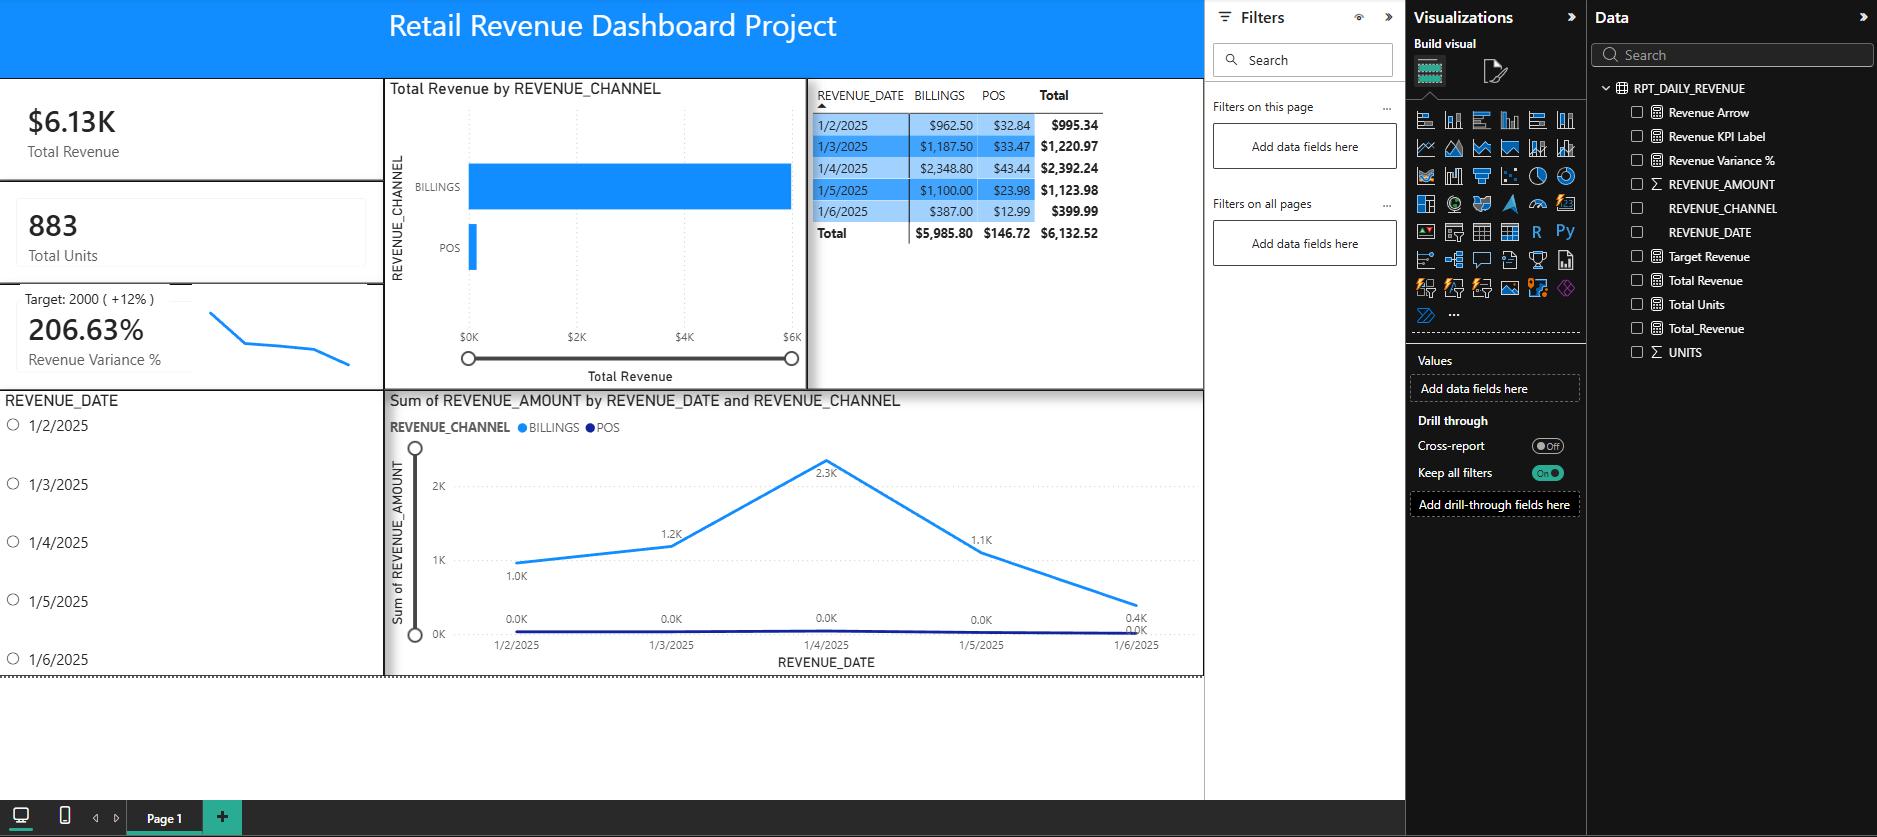

What the dashboard file says about the page in this screenshot:
{"tool":"powerbi","page":{"name":"Page 1","canvas":[1280,720],"ordinal":0},"visuals":[{"type":"lineChart","fields":{"Category":["RPT_DAILY_REVENUE.REVENUE_DATE.Variation.Date Hierarchy.Day"],"Y":["Sum(RPT_DAILY_REVENUE.REVENUE_AMOUNT)"],"Series":["RPT_DAILY_REVENUE.REVENUE_CHANNEL"]},"box":[409,416.4,871,303.8],"z":0},{"type":"cardVisual","fields":{"Data":["RPT_DAILY_REVENUE.Total Revenue"]},"box":[0,85,409,109.4],"z":1000},{"type":"cardVisual","fields":{"Data":["RPT_DAILY_REVENUE.Total Units"]},"box":[0,194.4,409,109.4],"z":2000},{"type":"pivotTable","fields":{"Rows":["RPT_DAILY_REVENUE.REVENUE_DATE"],"Columns":["RPT_DAILY_REVENUE.REVENUE_CHANNEL"],"Values":["RPT_DAILY_REVENUE.Total Revenue"]},"box":[858.3,85,421.7,331.4],"z":3000},{"type":"cardVisual","title":"KPI: Revenue Variance","fields":{"Data":["RPT_DAILY_REVENUE.Revenue Variance %"]},"box":[0,303.8,409,112.6],"z":4500},{"type":"textbox","box":[0,0,1280,85.1],"z":5000},{"type":"lineChart","fields":{"Category":["RPT_DAILY_REVENUE.REVENUE_DATE"],"Y":["RPT_DAILY_REVENUE.Total_Revenue"]},"box":[205,303.8,185.9,103],"z":7000},{"type":"listSlicer","fields":{"Values":["RPT_DAILY_REVENUE.REVENUE_DATE"]},"box":[0,416.4,409,303.8],"z":8000},{"type":"textbox","box":[22.3,303.8,159.3,34],"z":9000},{"type":"barChart","fields":{"Category":["RPT_DAILY_REVENUE.REVENUE_DATE","RPT_DAILY_REVENUE.REVENUE_CHANNEL"],"Y":["RPT_DAILY_REVENUE.Total Revenue"]},"box":[409,85,449.3,331.4],"z":10000}]}

Visuals, with their boxes on the page's 1280x720 design canvas (x1, y1, x2, y2). These are canvas units, not pixel positions in the 1877x837 screenshot, which may show the page scaled, cropped or inside an application window:
lineChart - RPT_DAILY_REVENUE.REVENUE_DATE.Variation.Date Hierarchy.Day x Sum(RPT_DAILY_REVENUE.REVENUE_AMOUNT): [left=409, top=416, right=1280, bottom=720]
cardVisual - RPT_DAILY_REVENUE.Total Revenue: [left=0, top=85, right=409, bottom=194]
cardVisual - RPT_DAILY_REVENUE.Total Units: [left=0, top=194, right=409, bottom=304]
pivotTable - RPT_DAILY_REVENUE.REVENUE_DATE x RPT_DAILY_REVENUE.REVENUE_CHANNEL: [left=858, top=85, right=1280, bottom=416]
"KPI: Revenue Variance" cardVisual: [left=0, top=304, right=409, bottom=416]
textbox: [left=0, top=0, right=1280, bottom=85]
lineChart - RPT_DAILY_REVENUE.REVENUE_DATE x RPT_DAILY_REVENUE.Total_Revenue: [left=205, top=304, right=391, bottom=407]
listSlicer - RPT_DAILY_REVENUE.REVENUE_DATE: [left=0, top=416, right=409, bottom=720]
textbox: [left=22, top=304, right=182, bottom=338]
barChart - RPT_DAILY_REVENUE.REVENUE_DATE x RPT_DAILY_REVENUE.REVENUE_CHANNEL: [left=409, top=85, right=858, bottom=416]
